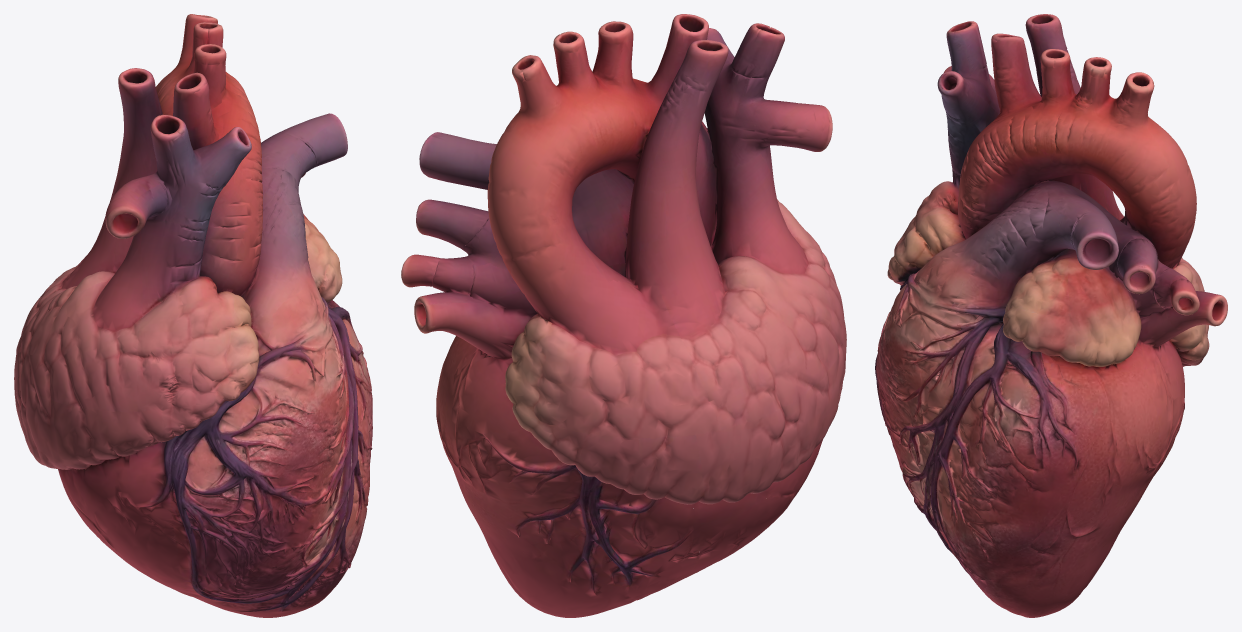
File: heart.glb
3 renders of one model, left to right at view 1: azimuth 30°, elevation 25°; view 2: azimuth 150°, elevation 25°; view 3: azimuth 270°, elevation 25°, orthographic. The views are drawn at different scales.
Visible parts, largest first — view 1: tripo_node_9c16954f-d29a-4a4b-baf4-ba02eda23201; view 2: tripo_node_9c16954f-d29a-4a4b-baf4-ba02eda23201; view 3: tripo_node_9c16954f-d29a-4a4b-baf4-ba02eda23201.
Part boxes in pixels (<box>): tripo_node_9c16954f-d29a-4a4b-baf4-ba02eda23201: <box>14,14,372,617</box>; tripo_node_9c16954f-d29a-4a4b-baf4-ba02eda23201: <box>401,14,846,617</box>; tripo_node_9c16954f-d29a-4a4b-baf4-ba02eda23201: <box>875,14,1227,617</box>.
Size of the model in its own units: 0.5967 by 0.9804 by 0.5845.
Materials: 1 (1 with a texture image).
